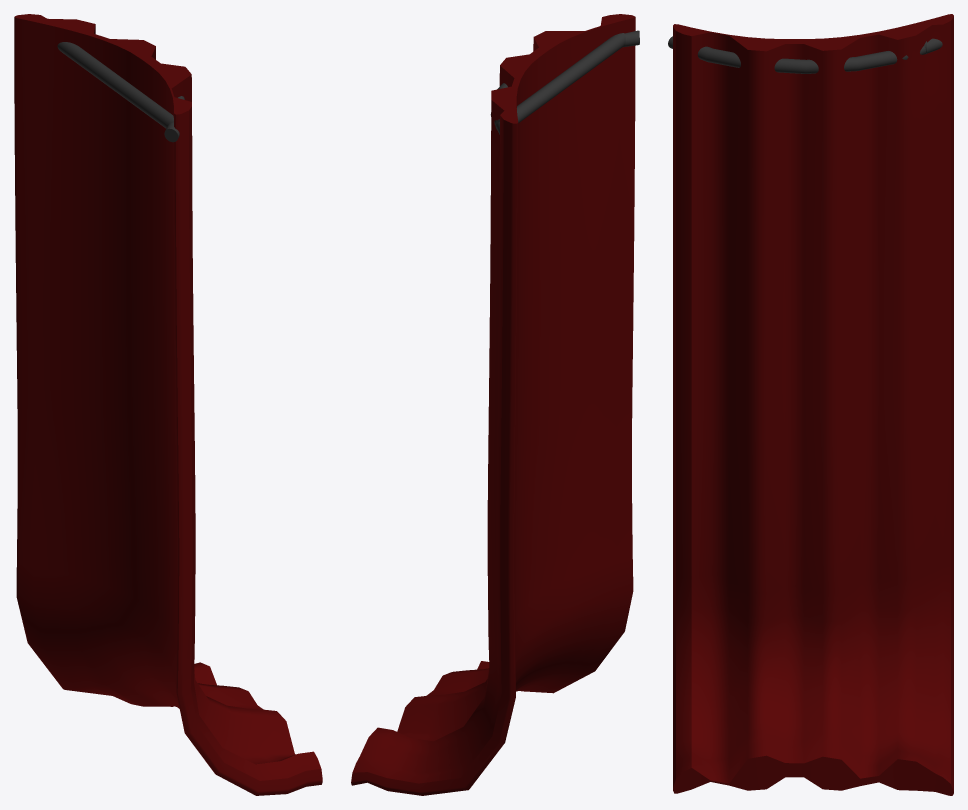
The model's file is Curtain.fbx.
The picture shows the model from 3 angles, left to right: view 1: azimuth 30°, elevation 25°; view 2: azimuth 150°, elevation 25°; view 3: azimuth 270°, elevation 25°; orthographic projection.
Visible parts, largest first — view 1: pCylinder2; view 2: pCylinder2; view 3: pCylinder2.
Boxes of the visible parts, box(x1,y1,x2,y2) form: pCylinder2: box(14, 14, 322, 795); pCylinder2: box(351, 14, 639, 795); pCylinder2: box(668, 14, 953, 795).
Bounding box in the file's own units: 2.73 × 10.95 × 4.04.
